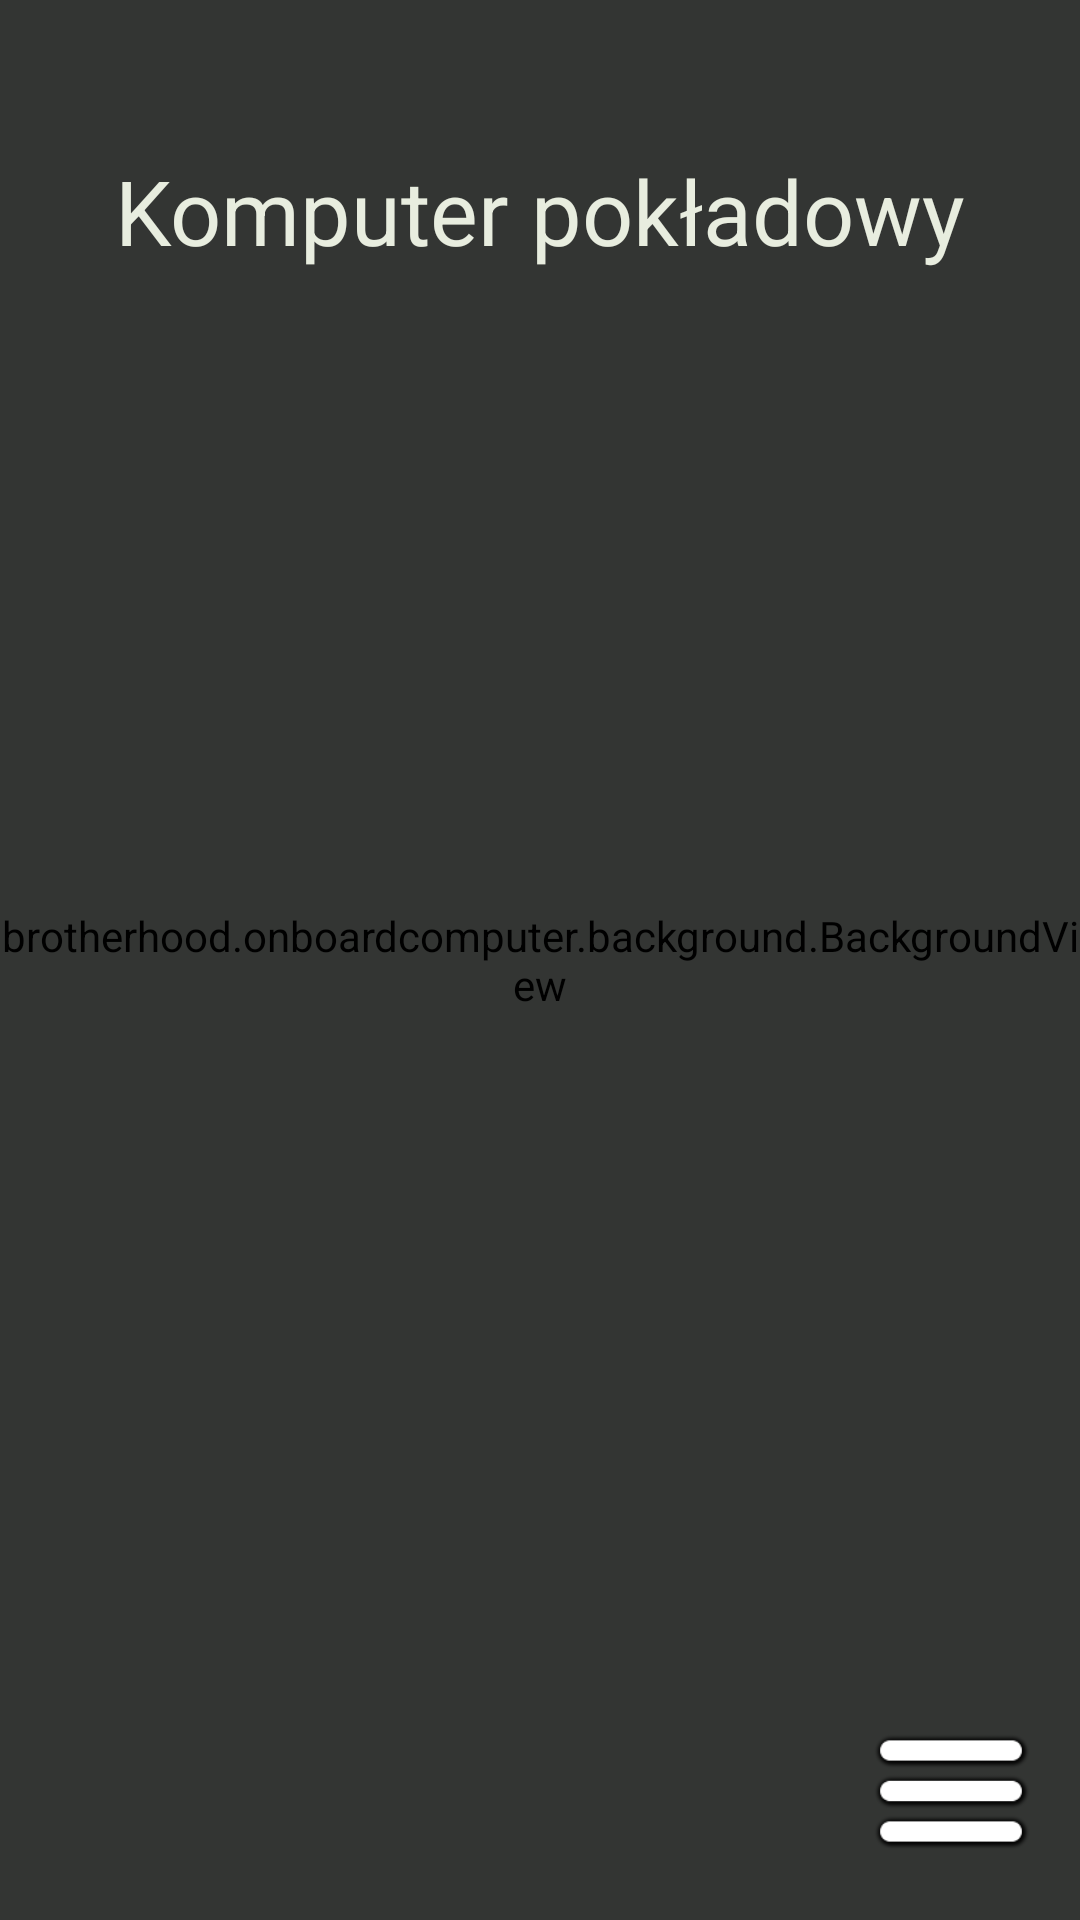

Locate icon controls on the screen. Image size 1080×1920, boxes as [x1=x1, y1=y1, x2=x2, y2=y2].
menu: [x1=878, y1=1738, x2=1026, y2=1846]
